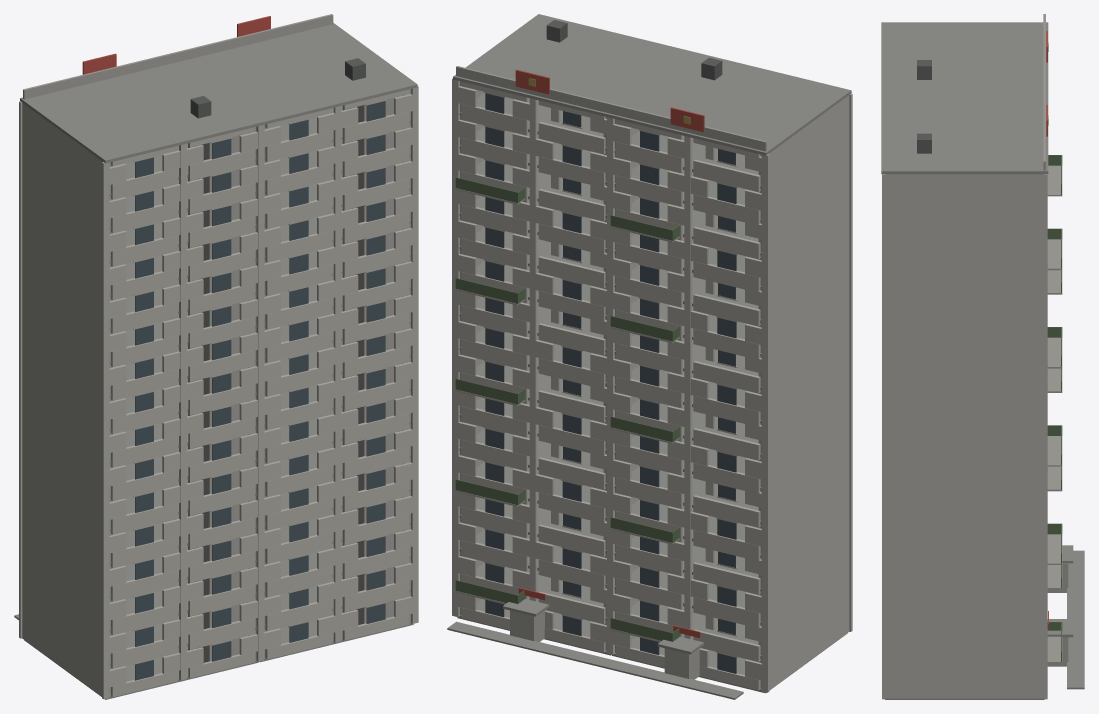
Rendered from b_brezh16.glb.
The picture shows the model from 3 angles, left to right: view 1: azimuth 30°, elevation 25°; view 2: azimuth 150°, elevation 25°; view 3: azimuth 270°, elevation 25°; orthographic projection. The views are drawn at different scales.
Parts seen in each view (by area): view 1: roof_s0, roof_s1, stair_s0, stair_s1, wall_s0_f0_w, wall_s0_f2_w, wall_s0_f4_w, wall_s0_f10_w, wall_s0_f12_w, wall_s0_f1_w, wall_s0_f3_w, wall_s0_f5_w (+75 smaller); view 2: roof_s0, roof_s1, details, wall_s1_f7_l1, wall_s1_f10_l1, wall_s1_f4_l1, wall_s1_f13_l1, wall_s0_f4_l1, wall_s0_f7_l1, wall_s0_f13_l1, wall_s0_f10_l1, wall_s1_f1_l1 (+103 smaller); view 3: roof_s1, roof_s0, wall_s1_f0_e, wall_s1_f3_e, wall_s1_f9_e, wall_s1_f12_e, wall_s1_f4_e, wall_s1_f8_e, wall_s1_f13_e, wall_s1_f1_e, wall_s1_f2_e, wall_s1_f5_e (+17 smaller).
Part boxes in pixels (box(x1,y1,x2,y2)): roof_s0: box(20, 51, 263, 163); roof_s1: box(177, 14, 417, 125); stair_s0: box(188, 133, 246, 662); stair_s1: box(342, 96, 401, 624); wall_s0_f0_w: box(22, 605, 101, 696); wall_s0_f2_w: box(22, 538, 101, 629); wall_s0_f4_w: box(22, 471, 101, 562); wall_s0_f10_w: box(22, 270, 101, 361); wall_s0_f12_w: box(22, 203, 101, 294); wall_s0_f1_w: box(22, 572, 101, 662); wall_s0_f3_w: box(22, 505, 101, 595); wall_s0_f5_w: box(22, 438, 101, 528); roof_s0: box(608, 52, 851, 155); roof_s1: box(453, 14, 692, 117); details: box(447, 69, 743, 699); wall_s1_f7_l1: box(452, 347, 529, 406); wall_s1_f10_l1: box(452, 246, 529, 305); wall_s1_f4_l1: box(452, 448, 529, 506); wall_s1_f13_l1: box(452, 146, 529, 204); wall_s0_f4_l1: box(607, 486, 684, 544); wall_s0_f7_l1: box(607, 385, 684, 443); wall_s0_f13_l1: box(607, 184, 684, 242); wall_s0_f10_l1: box(607, 284, 684, 343); wall_s1_f1_l1: box(452, 548, 529, 604); roof_s1: box(881, 87, 1048, 174); roof_s0: box(881, 14, 1048, 97); wall_s1_f0_e: box(885, 665, 1044, 698); wall_s1_f3_e: box(885, 567, 1044, 600); wall_s1_f9_e: box(885, 370, 1044, 403); wall_s1_f12_e: box(885, 272, 1044, 305); wall_s1_f4_e: box(885, 534, 1044, 567); wall_s1_f8_e: box(885, 403, 1044, 436); wall_s1_f13_e: box(885, 239, 1044, 272); wall_s1_f1_e: box(885, 633, 1044, 665); wall_s1_f2_e: box(885, 600, 1044, 632); wall_s1_f5_e: box(885, 502, 1044, 534).
Size of the model in its own units: 28.55 by 48.72 by 16.3.
